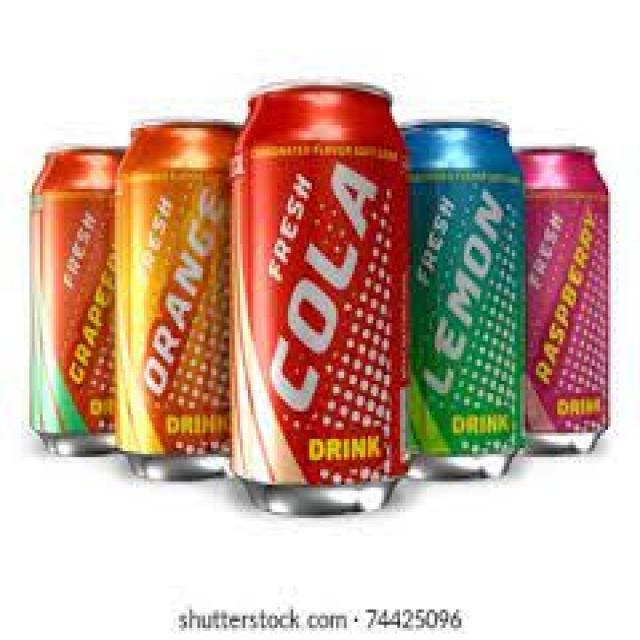Cans: (219, 73, 413, 515)
